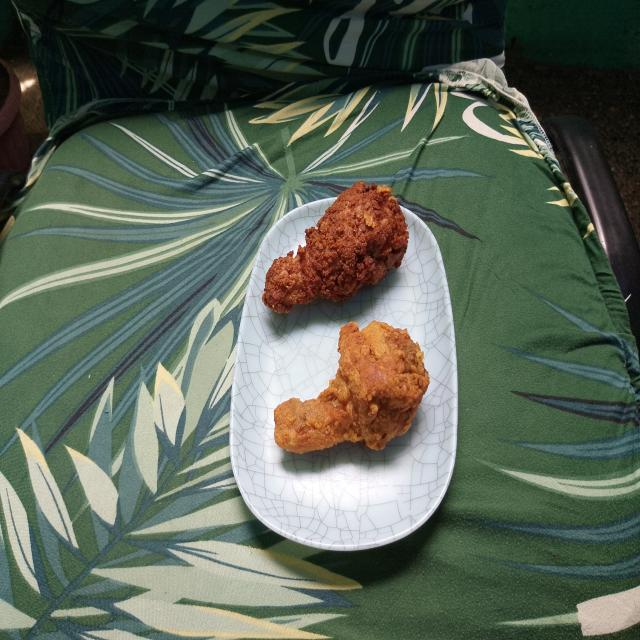Chicken -Fried Chicken-: (267, 315, 436, 475), (257, 171, 413, 322)
